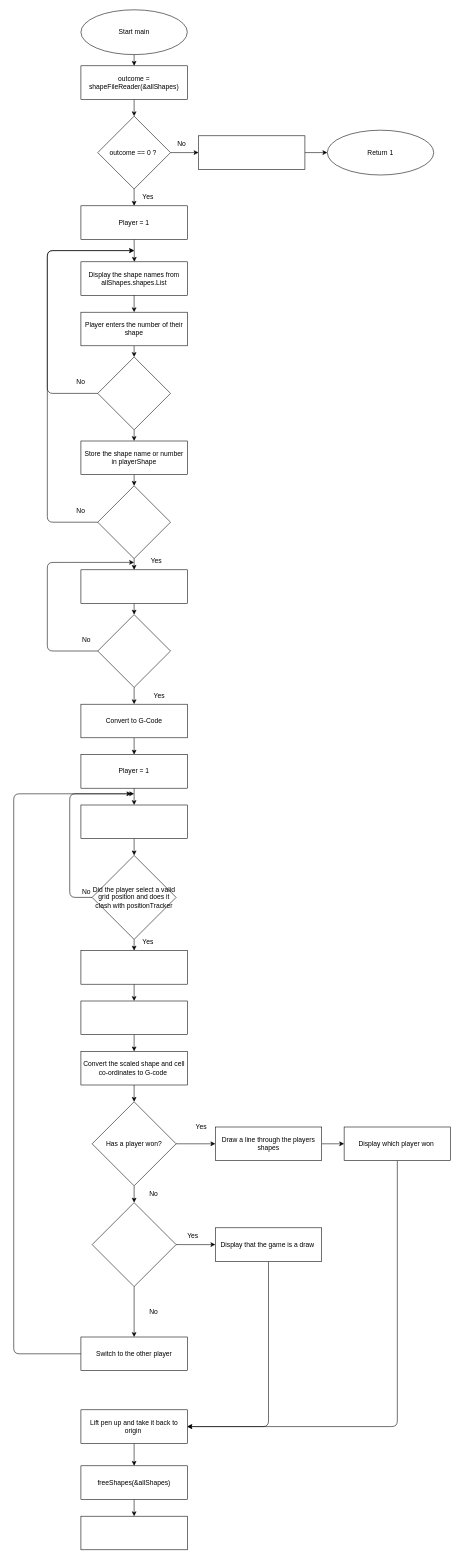
This 460x1560 diagram has some shape labels left out. Here are the shapes that lost their labels. From the top down, the box of each, then its label:
(198, 135, 305, 169): Print error message
(97, 356, 171, 430): Has the player 1 selected the same number as player 2?
(97, 485, 171, 559): Has the loop ran twice ?
(80, 569, 187, 603): Ask the user for the grid size and store in gridSize
(97, 614, 171, 687): Is gridSize between 30-100?
(80, 804, 187, 839): Ask player the grid co-ordinates
(80, 950, 187, 984): Store the position in positionTracker
(80, 1000, 187, 1035): Scale and offset the players shape to the cell seclected
(92, 1202, 176, 1287): is the number of turns == 9 ?
(80, 1516, 187, 1550): return 0
